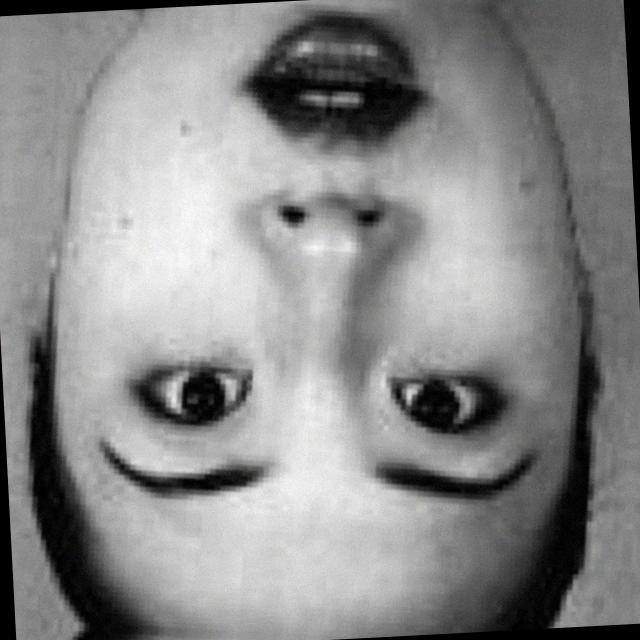surprise: (59, 0, 602, 618)
